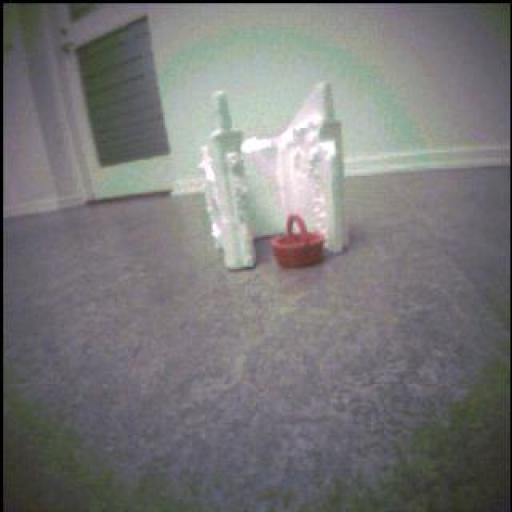Bucket: (271, 216, 326, 269)
